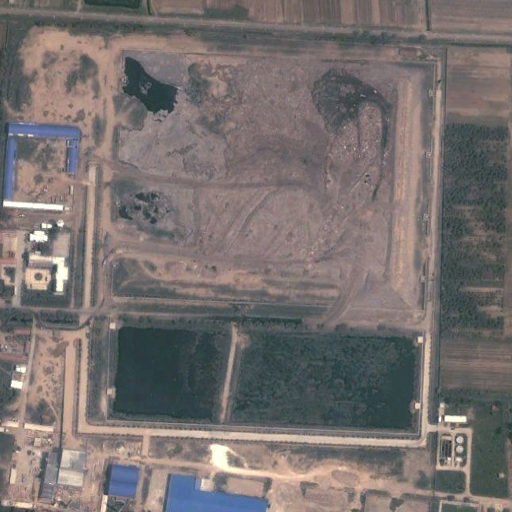lf: (102, 47, 438, 324)
